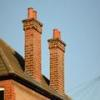chimneys: (48, 28, 67, 95)
